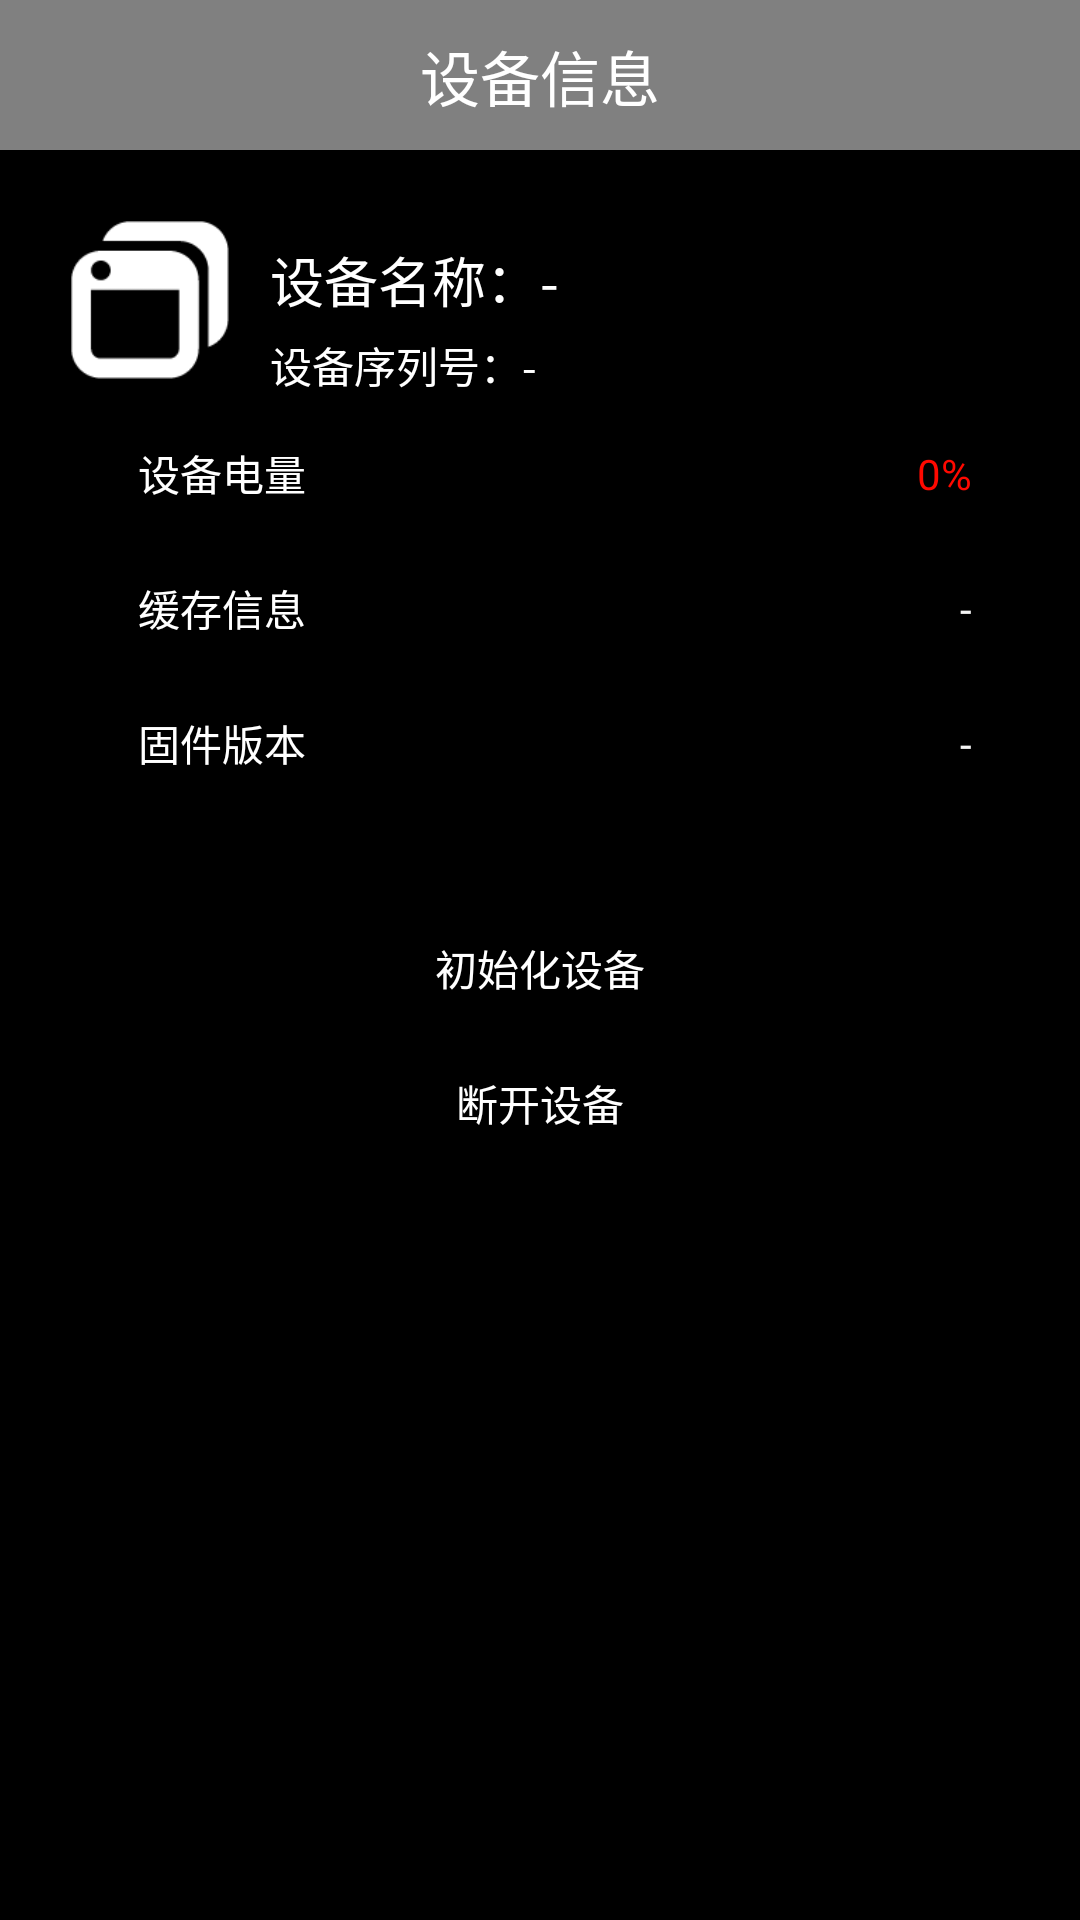

Named icons in this screenshot (1080 × 1920) and their bounding boxes, (x1, y1, x2, y2):
device: (71, 221, 229, 379)
